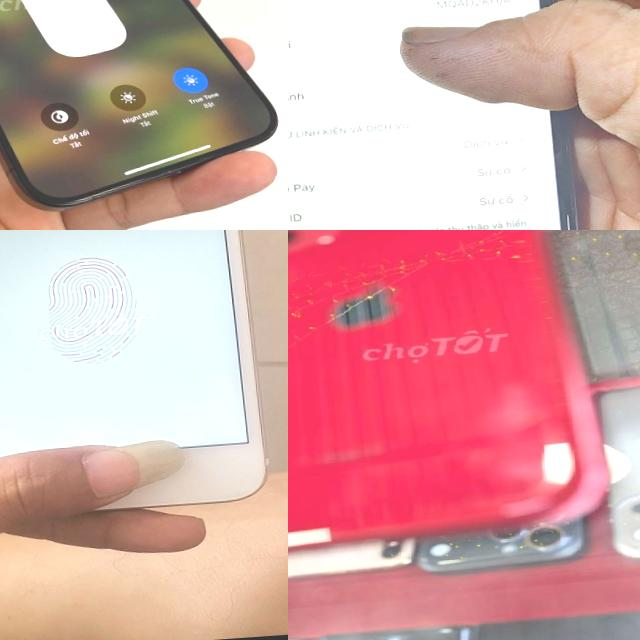gen_11: (288, 230, 607, 564)
gen_15: (0, 0, 288, 226)
gen_7_8: (0, 230, 283, 531)
gen_x_xs: (288, 0, 640, 230)
